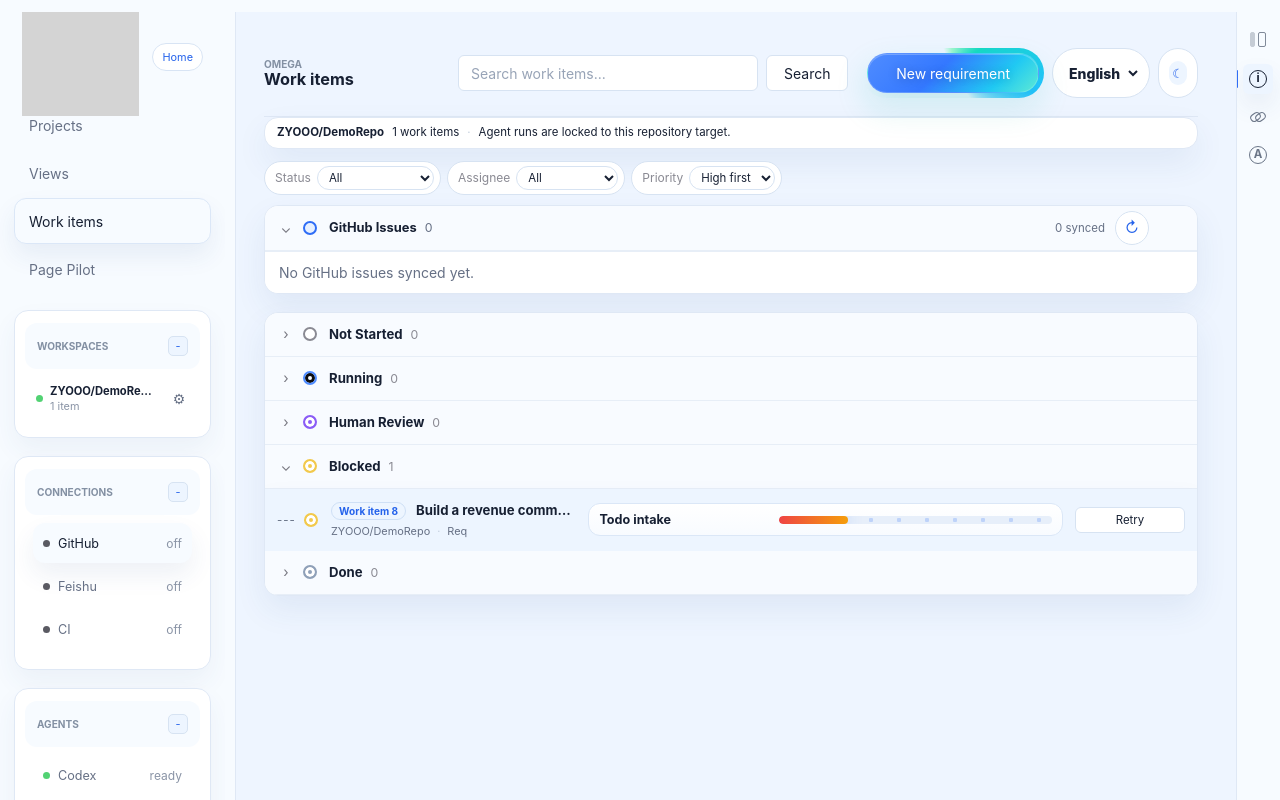
Scenario: App operator view › shows in-flight feedback when retrying a blocked workboard item
This screenshot has width=1280, height=800.
Click the button "Retry": click(1130, 520) [1075,506,1185,532]
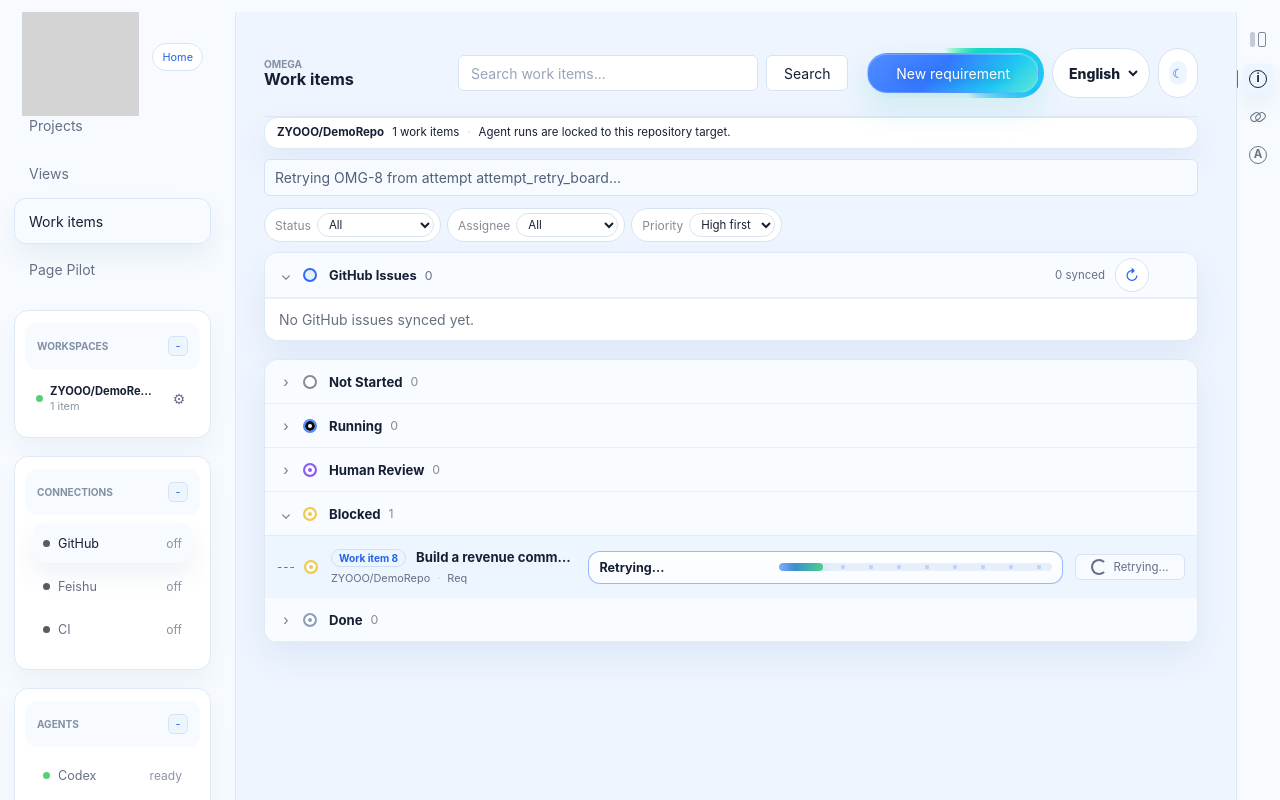
Now the button "Retrying..." is disabled, box [1075,554,1185,580]
